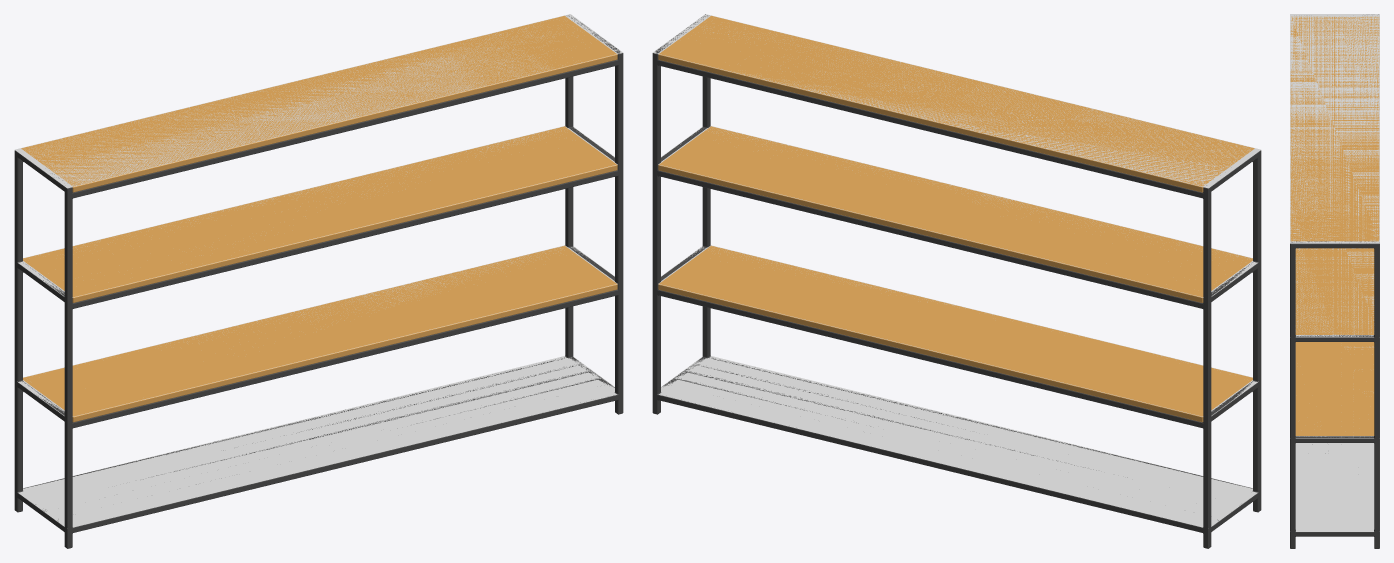
Rendered from iron-frame-shelf-4.glb.
3 renders of one model, left to right at view 1: azimuth 30°, elevation 25°; view 2: azimuth 150°, elevation 25°; view 3: azimuth 270°, elevation 25°, orthographic. The views are drawn at different scales.
Parts seen in each view (by area): view 1: Board.003, Board.002, Board.001, Frame4.001, __TOP__Plane.001, __TOP__Plane.004, __TOP__Plane.002, __TOP__Plane.003; view 2: Board.003, Board.001, Board.002, __TOP__Plane.001, Frame4.001, __TOP__Plane.004, __TOP__Plane.003, __TOP__Plane.002; view 3: Board.003, __TOP__Plane.004, Board.001, __TOP__Plane.001, Board.002, Frame4.001, __TOP__Plane.003, __TOP__Plane.002.
Boxes of the visible parts, bbox=[...] form: Board.003: bbox=[21, 15, 617, 192]; Board.002: bbox=[23, 126, 617, 302]; Board.001: bbox=[23, 245, 617, 422]; Frame4.001: bbox=[14, 15, 623, 548]; __TOP__Plane.001: bbox=[18, 356, 617, 527]; __TOP__Plane.004: bbox=[15, 14, 623, 188]; __TOP__Plane.002: bbox=[17, 245, 617, 416]; __TOP__Plane.003: bbox=[18, 126, 617, 297]; Board.003: bbox=[658, 15, 1254, 192]; Board.001: bbox=[658, 245, 1252, 422]; Board.002: bbox=[658, 126, 1252, 302]; __TOP__Plane.001: bbox=[658, 356, 1257, 527]; Frame4.001: bbox=[652, 14, 1261, 548]; __TOP__Plane.004: bbox=[652, 14, 1260, 188]; __TOP__Plane.003: bbox=[658, 126, 1257, 297]; __TOP__Plane.002: bbox=[658, 245, 1258, 416]; Board.003: bbox=[1290, 16, 1379, 241]; __TOP__Plane.004: bbox=[1290, 14, 1379, 243]; Board.001: bbox=[1295, 342, 1374, 435]; __TOP__Plane.001: bbox=[1295, 443, 1374, 531]; Board.002: bbox=[1295, 248, 1374, 334]; Frame4.001: bbox=[1290, 14, 1379, 548]; __TOP__Plane.003: bbox=[1295, 248, 1374, 337]; __TOP__Plane.002: bbox=[1296, 346, 1373, 438].
Size of what is drawn, in the model's own units: 2 by 1.24 by 0.33.
